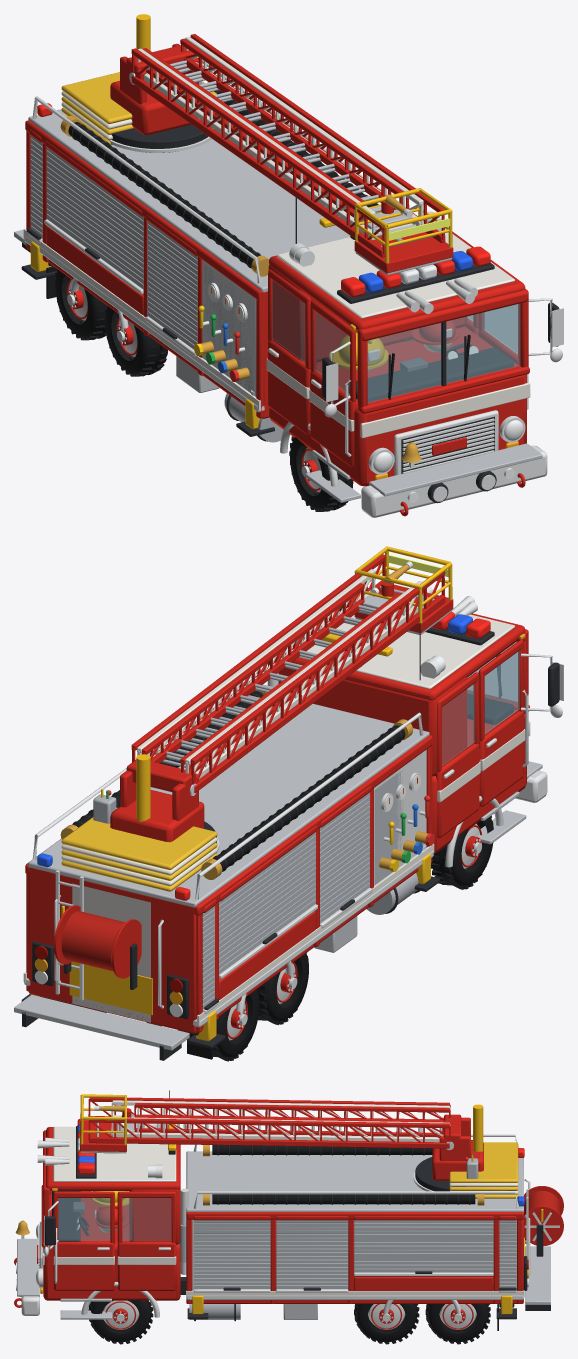
The model's file is truck.glb.
3 renders of one model, top to bottom at view 1: azimuth 30°, elevation 25°; view 2: azimuth 150°, elevation 25°; view 3: azimuth 270°, elevation 25°, orthographic. The views are drawn at different scales.
Parts seen in each view (by area): view 1: M_Cab_Paint_Red, M_Body_DiamondPlate, M_Ladder_Boom_Paint_Red, M_Body_Paint_Red, Windscreen, M_Cab_Paint_White, M_Cab_Chrome, M_Shutter_R_C_Aluminium, M_Ladder_Fly2_Paint_Red, M_Cab_Dark, M_Ladder_Fly1_Paint_White, M_Shutter_R_B_Aluminium (+34 smaller); view 2: M_Body_DiamondPlate, M_Body_Paint_Red, M_Ladder_Boom_Paint_Red, M_Cab_Paint_Red, M_Shutter_R_C_Aluminium, M_Ladder_Fly2_Paint_Red, M_Body_Hose_Yellow, M_Ladder_Fly1_Paint_White, M_Shutter_R_B_Aluminium, M_Cab_Paint_White, M_Rear_DiamondPlate, M_Ladder_Turntable_Paint_Red (+34 smaller); view 3: M_Body_DiamondPlate, M_Body_Paint_Red, M_Ladder_Boom_Paint_Red, M_Shutter_L_C_Aluminium, M_Cab_Paint_Red, M_Shutter_L_A_Aluminium, M_Shutter_L_B_Aluminium, M_Ladder_Fly2_Paint_Red, M_Body_Rubber, M_Ladder_Fly1_Paint_White, M_Cab_Paint_White, M_Door_RL_Paint_Red (+36 smaller).
Part boxes in pixels (bbox=[...]): M_Cab_Paint_Red: bbox=[268, 228, 529, 486]; M_Body_DiamondPlate: bbox=[28, 81, 350, 292]; M_Ladder_Boom_Paint_Red: bbox=[126, 34, 445, 257]; M_Body_Paint_Red: bbox=[25, 120, 269, 418]; Windscreen: bbox=[367, 304, 520, 402]; M_Cab_Paint_White: bbox=[277, 223, 530, 438]; M_Cab_Chrome: bbox=[289, 211, 563, 501]; M_Shutter_R_C_Aluminium: bbox=[46, 147, 143, 294]; M_Ladder_Fly2_Paint_Red: bbox=[142, 38, 402, 220]; M_Cab_Dark: bbox=[295, 197, 559, 503]; M_Ladder_Fly1_Paint_White: bbox=[137, 36, 423, 240]; M_Shutter_R_B_Aluminium: bbox=[147, 221, 197, 349]; M_Body_DiamondPlate: bbox=[28, 704, 429, 907]; M_Body_Paint_Red: bbox=[25, 735, 432, 1033]; M_Ladder_Boom_Paint_Red: bbox=[126, 554, 445, 792]; M_Cab_Paint_Red: bbox=[268, 588, 529, 853]; M_Shutter_R_C_Aluminium: bbox=[219, 832, 315, 979]; M_Ladder_Fly2_Paint_Red: bbox=[142, 583, 402, 772]; M_Body_Hose_Yellow: bbox=[61, 807, 217, 891]; M_Ladder_Fly1_Paint_White: bbox=[137, 569, 423, 778]; M_Shutter_R_B_Aluminium: bbox=[320, 792, 369, 924]; M_Cab_Paint_White: bbox=[280, 611, 530, 735]; M_Rear_DiamondPlate: bbox=[14, 881, 189, 1050]; M_Ladder_Turntable_Paint_Red: bbox=[110, 770, 204, 842]; M_Body_DiamondPlate: bbox=[186, 1151, 523, 1212]; M_Body_Paint_Red: bbox=[186, 1212, 523, 1303]; M_Ladder_Boom_Paint_Red: bbox=[88, 1097, 461, 1148]; M_Shutter_L_C_Aluminium: bbox=[354, 1220, 493, 1272]; M_Cab_Paint_Red: bbox=[37, 1127, 180, 1300]; M_Shutter_L_A_Aluminium: bbox=[194, 1220, 270, 1289]; M_Shutter_L_B_Aluminium: bbox=[276, 1220, 348, 1289]; M_Ladder_Fly2_Paint_Red: bbox=[134, 1103, 450, 1137]; M_Body_Rubber: bbox=[212, 1145, 475, 1204]; M_Ladder_Fly1_Paint_White: bbox=[111, 1100, 450, 1142]; M_Cab_Paint_White: bbox=[42, 1126, 176, 1264]; M_Door_RL_Paint_Red: bbox=[117, 1191, 176, 1290].
Size of the model in its own units: 3.46 by 4.06 by 9.61.
